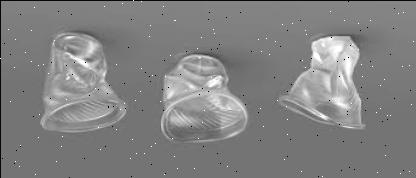Others: (40, 31, 124, 130), (278, 34, 362, 128), (161, 53, 247, 141)
